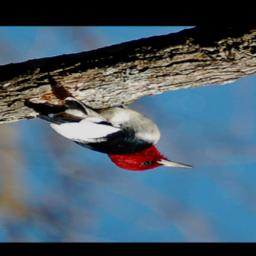Woodpecker: (35, 95, 198, 172)
